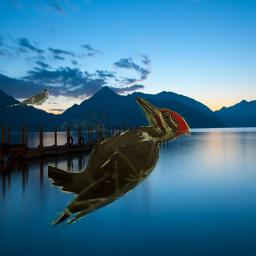Cuckoo: (6, 88, 49, 108)
Woodpecker: (48, 97, 191, 229)
